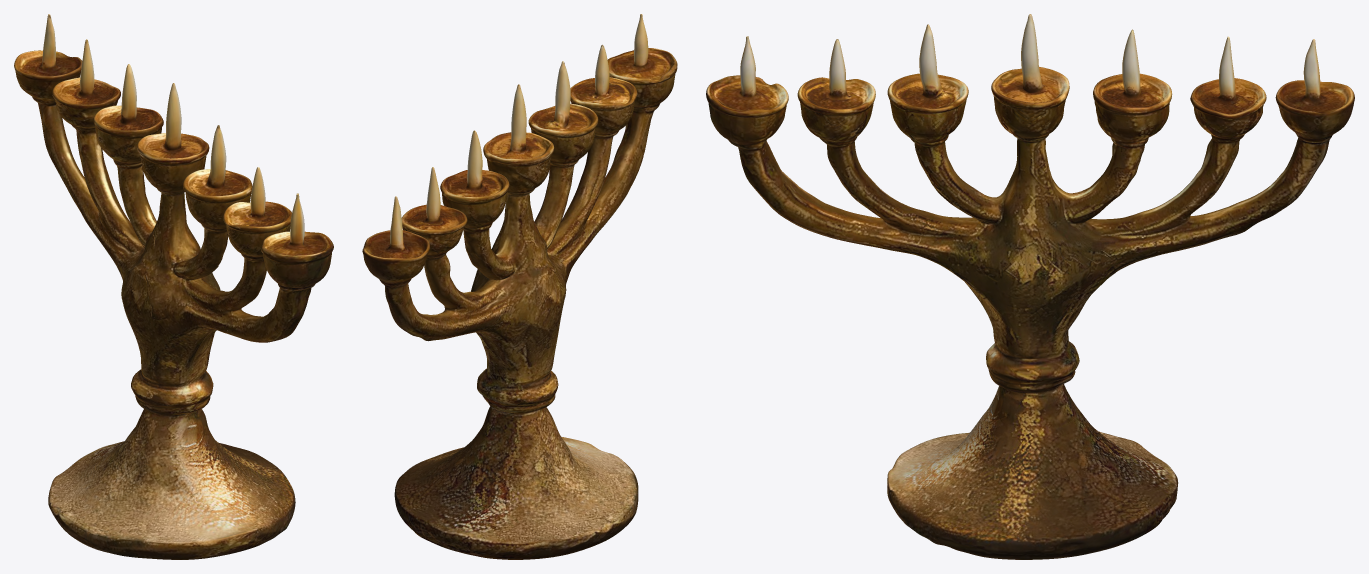
File: golden-menorah.glb
The picture shows the model from 3 angles, left to right: view 1: azimuth 30°, elevation 25°; view 2: azimuth 150°, elevation 25°; view 3: azimuth 270°, elevation 25°; orthographic projection. The views are drawn at different scales.
Visible parts, largest first — view 1: tripo_node_a802723f-34e4-4f1f-9744-19ba1dc6502c; view 2: tripo_node_a802723f-34e4-4f1f-9744-19ba1dc6502c; view 3: tripo_node_a802723f-34e4-4f1f-9744-19ba1dc6502c.
Boxes of the visible parts, x1=… form: tripo_node_a802723f-34e4-4f1f-9744-19ba1dc6502c: x1=14, y1=14, x2=333, y2=559; tripo_node_a802723f-34e4-4f1f-9744-19ba1dc6502c: x1=362, y1=14, x2=677, y2=559; tripo_node_a802723f-34e4-4f1f-9744-19ba1dc6502c: x1=706, y1=14, x2=1354, y2=559.
Bounding box in the file's own units: 0.423 × 0.82 × 0.9796.
Materials: 1 (1 with a texture image).
